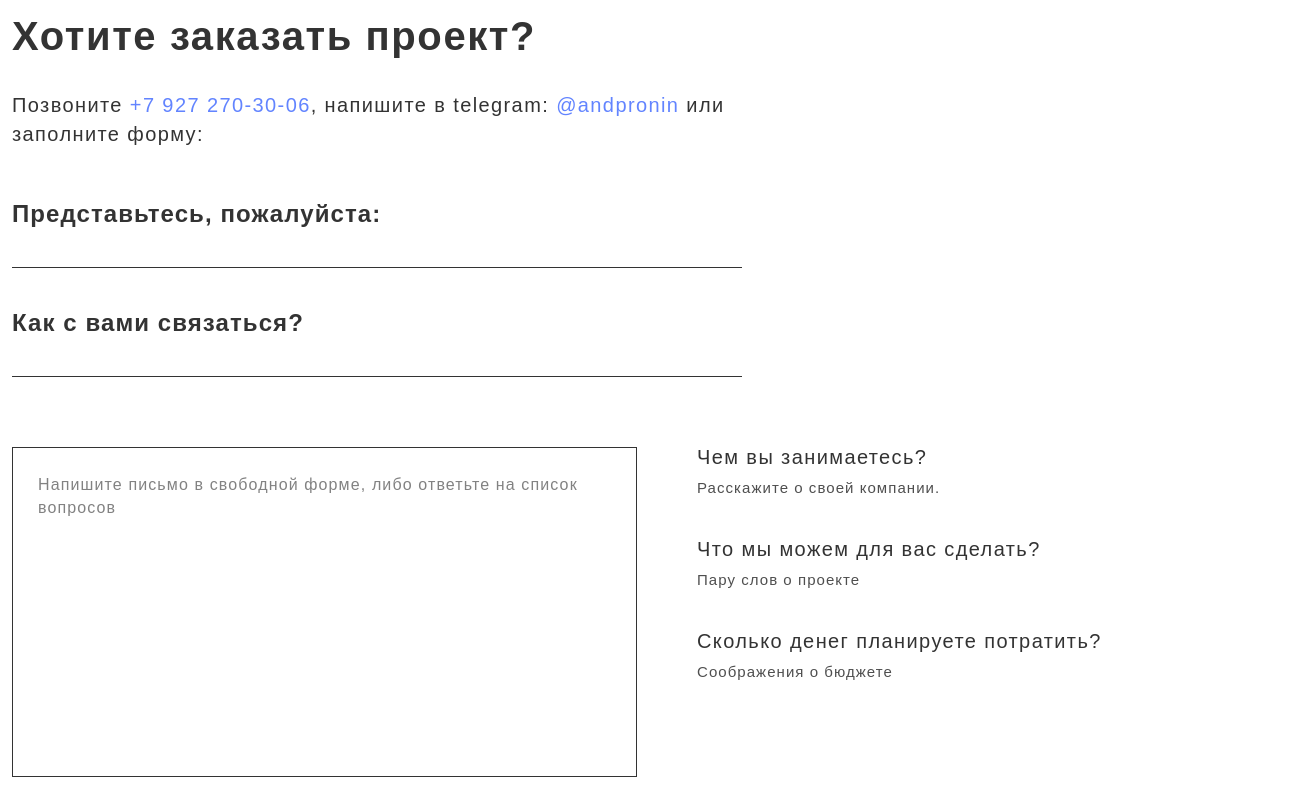
Test: Name Input › is more than 20 chars
Type "Lorem ipsum dolor si amet" into the field with test id "nameInput" at x=377, y=234, box x1=12 y1=199 x2=742 y2=268
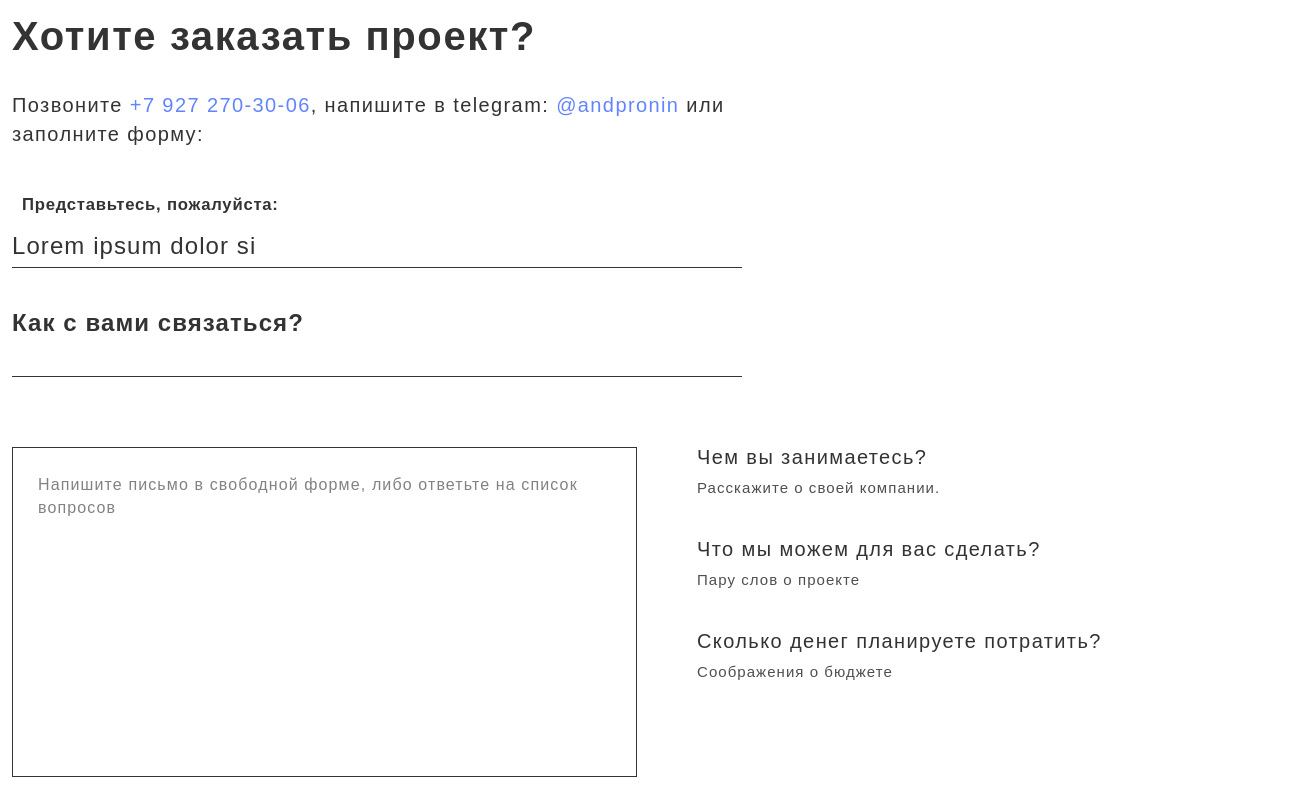
Check: the field with test id "nameInput" holds "Lorem ipsum dolor si", box x1=12 y1=199 x2=742 y2=268
